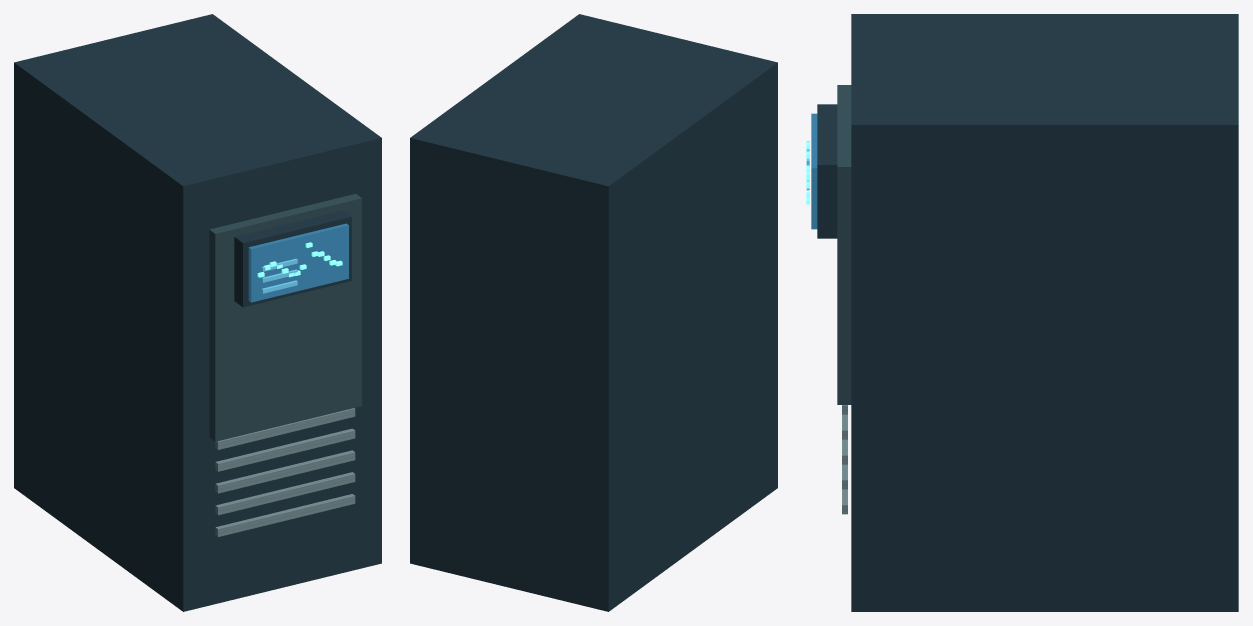
Rendered from ups.glb.
The picture shows the model from 3 angles, left to right: view 1: azimuth 30°, elevation 25°; view 2: azimuth 150°, elevation 25°; view 3: azimuth 270°, elevation 25°; orthographic projection. The views are drawn at different scales.
Parts seen in each view (by area): view 1: ups; view 2: ups; view 3: ups.
Boxes of the visible parts, <box> form: ups: <box>14,14,381,611</box>; ups: <box>410,14,777,611</box>; ups: <box>806,14,1238,611</box>.
Bounding box in the file's own units: 0.42 × 0.86 × 0.692.
6 materials, 1 textured.
